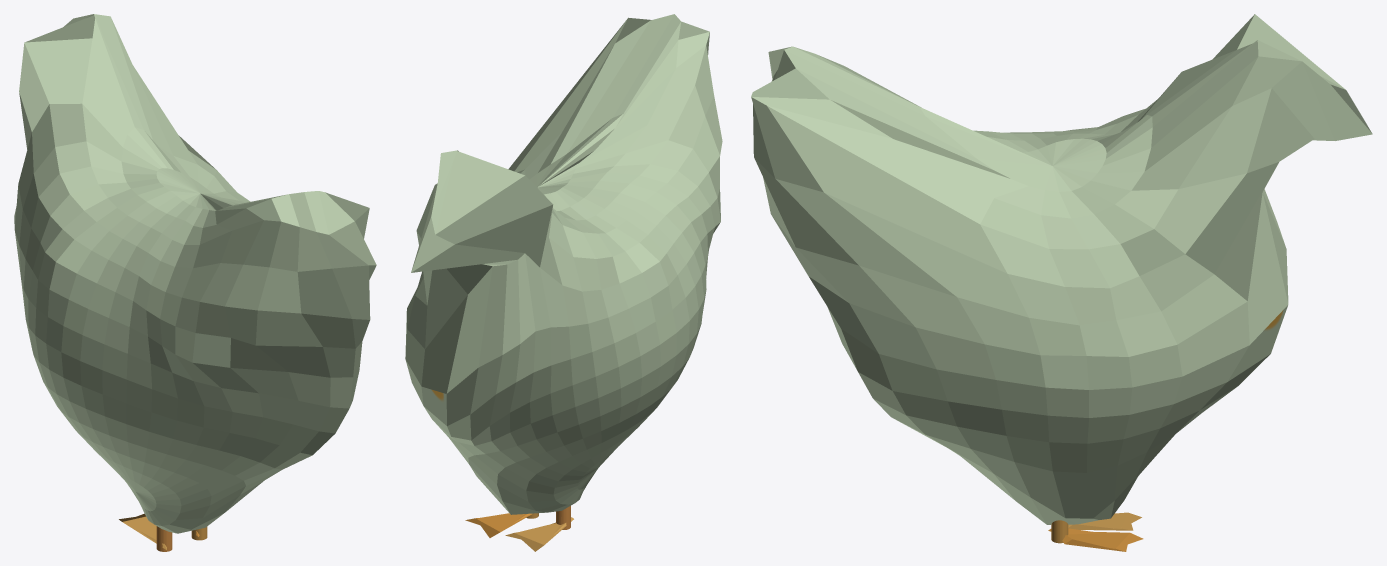
Rendered from chicken.glb.
The picture shows the model from 3 angles, left to right: view 1: azimuth 30°, elevation 25°; view 2: azimuth 150°, elevation 25°; view 3: azimuth 270°, elevation 25°; orthographic projection. The views are drawn at different scales.
Visible parts, largest first — view 1: Sphere, Cube.001; view 2: Sphere, Cube.001, Cube; view 3: Sphere, Cube, Cube.001.
Boxes of the visible parts, left/top/right/bottom form: Sphere: left=14, top=14, right=376, bottom=533; Cube.001: left=119, top=513, right=166, bottom=549; Sphere: left=405, top=14, right=722, bottom=514; Cube.001: left=505, top=517, right=573, bottom=551; Cube: left=465, top=513, right=532, bottom=537; Sphere: left=751, top=14, right=1372, bottom=524; Cube: left=1048, top=528, right=1143, bottom=551; Cube.001: left=1068, top=512, right=1141, bottom=530.
Bounding box in the file's own units: 2.3 × 3.87 × 4.4.
Materials: 5 (5 with a texture image).
